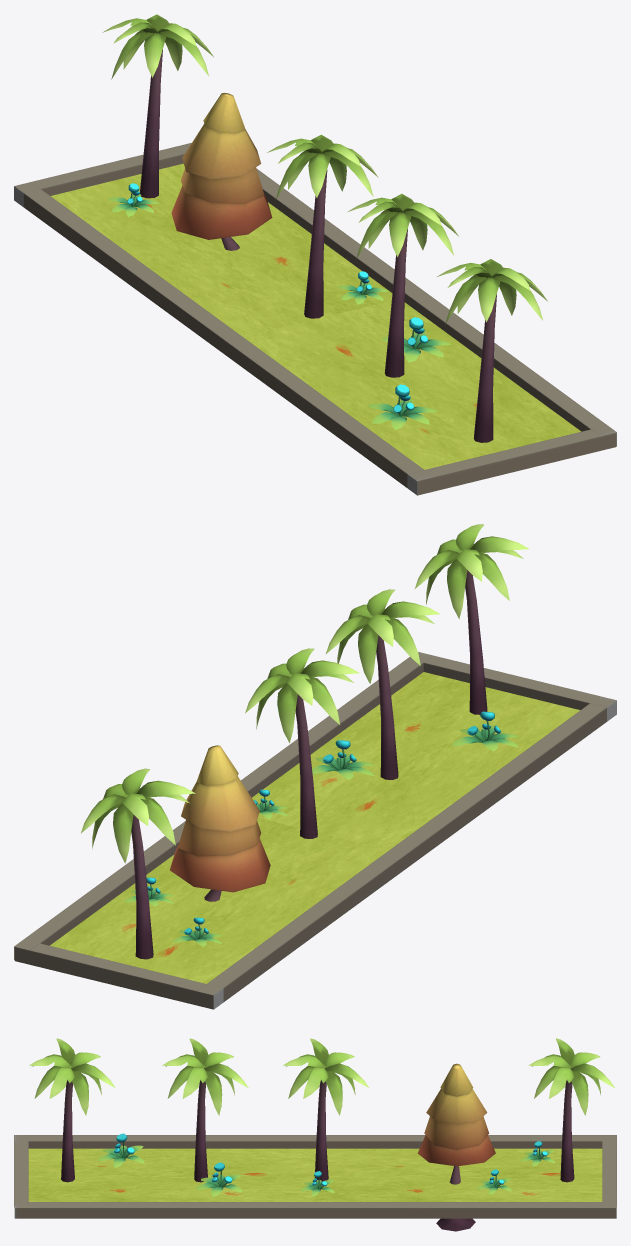
File: boncay_2.fbx
The picture shows the model from 3 angles, top to bottom: view 1: azimuth 30°, elevation 25°; view 2: azimuth 150°, elevation 25°; view 3: azimuth 270°, elevation 25°; orthographic projection. The views are drawn at different scales.
Parts seen in each view (by area): view 1: boncay_2; view 2: boncay_2; view 3: boncay_2.
Boxes of the visible parts, left/top/right/bottom form: boncay_2: left=14, top=14, right=616, bottom=495; boncay_2: left=14, top=524, right=616, bottom=1009; boncay_2: left=14, top=1038, right=616, bottom=1231.
Size of the model in its own units: 404 by 444 by 1410.
